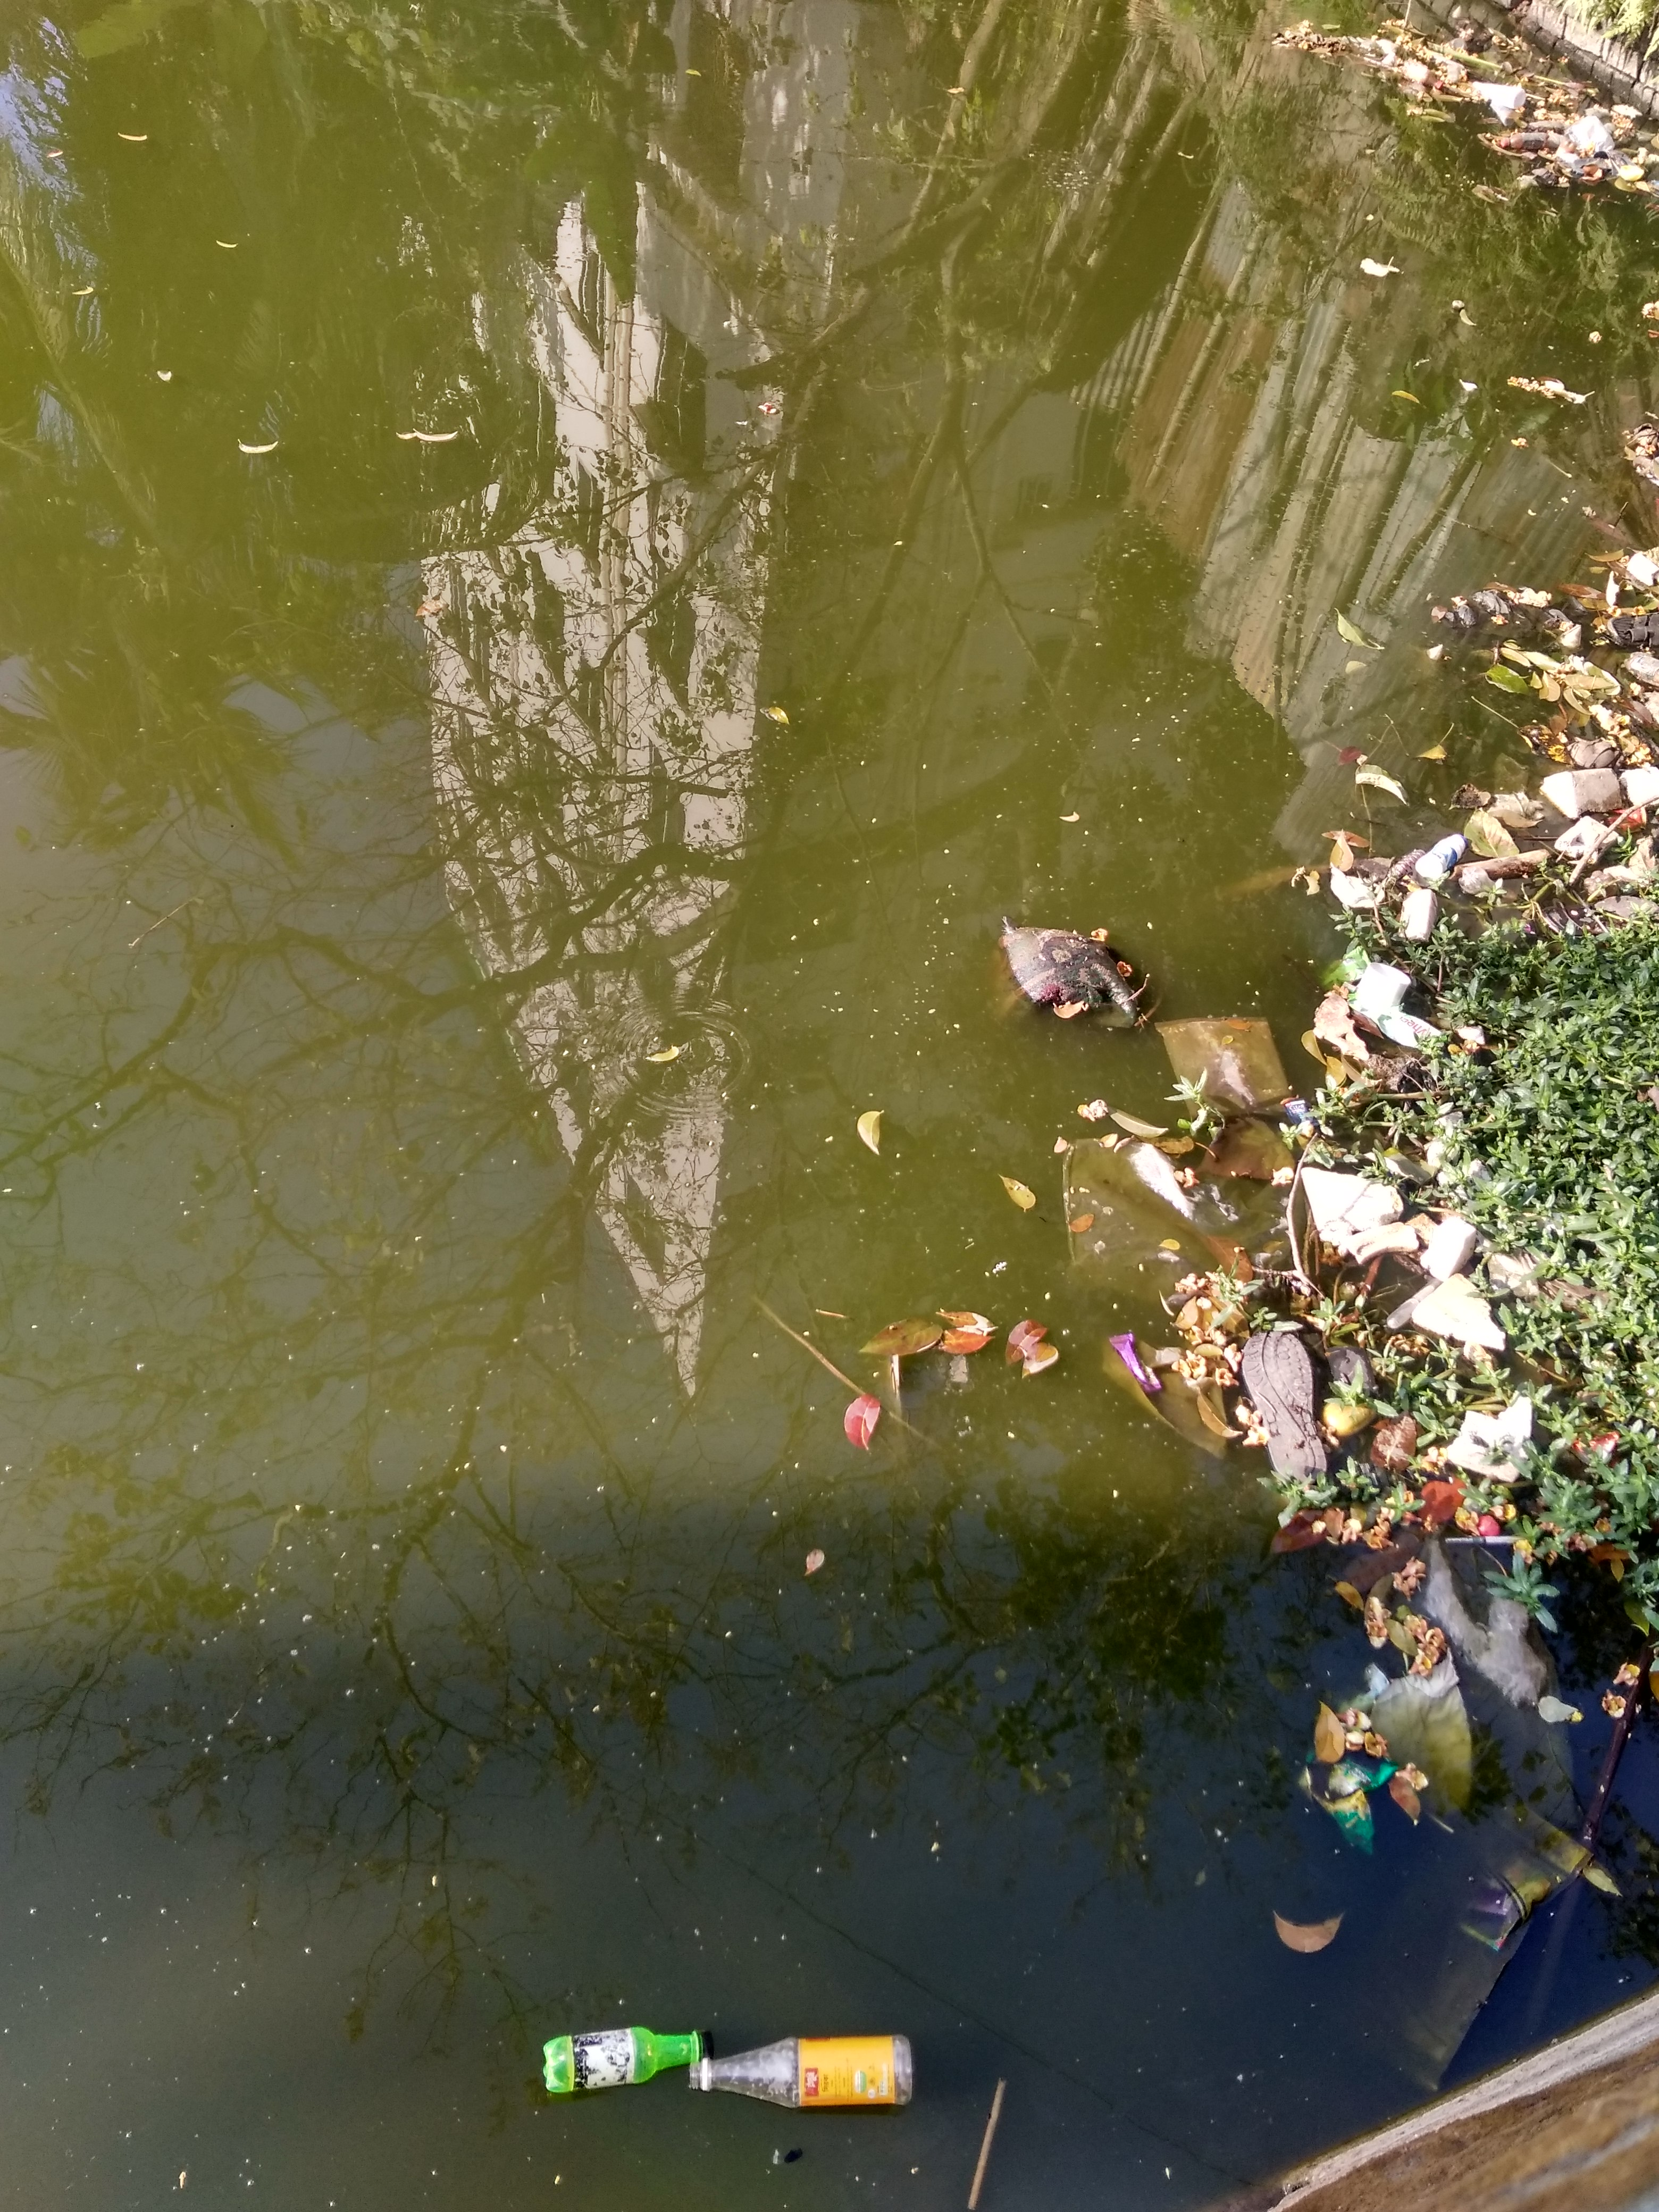Plastic Bottle: (688, 2034, 913, 2107), (542, 2026, 714, 2094), (1415, 834, 1467, 878), (1474, 80, 1525, 108), (1624, 651, 1659, 686), (1387, 848, 1425, 878), (1584, 869, 1619, 899), (1459, 867, 1493, 895), (1406, 63, 1443, 89), (1500, 131, 1549, 150), (1446, 37, 1466, 51), (1547, 131, 1561, 148)
